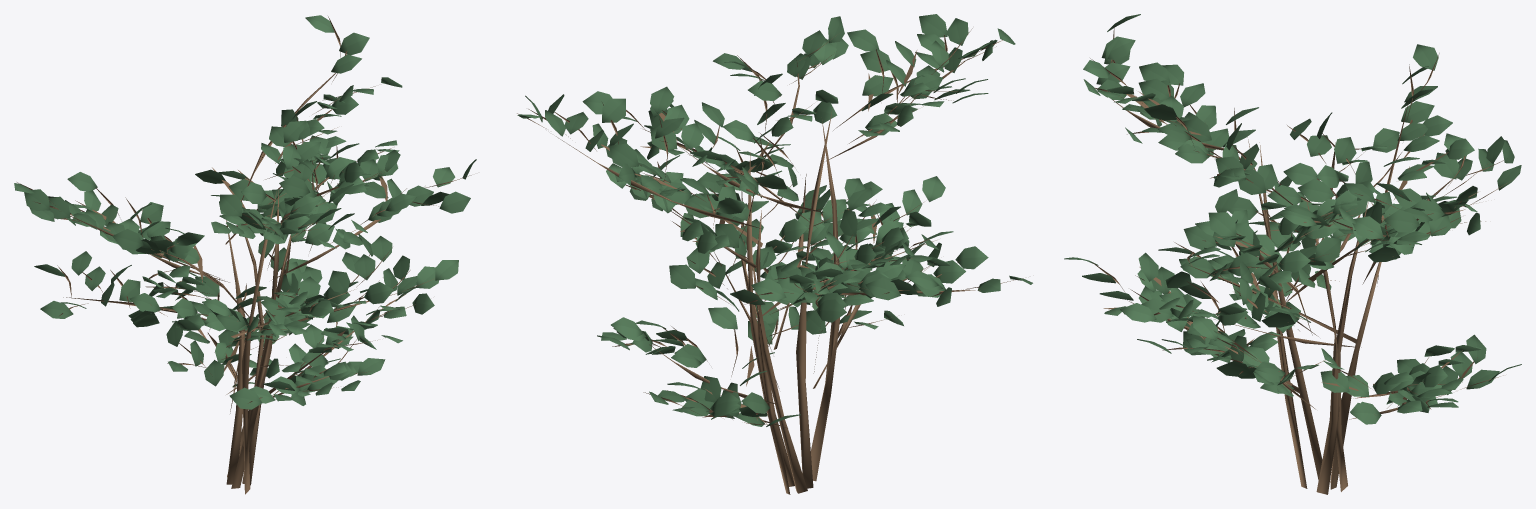
File: Myrte_0_LOD2.fbx
3 views of the same model, side by side, from view 1: azimuth 30°, elevation 25°; view 2: azimuth 150°, elevation 25°; view 3: azimuth 270°, elevation 25° (orthographic). The views are drawn at different scales.
Parts seen in each view (by area): view 1: Myrte_0_LOD2; view 2: Myrte_0_LOD2; view 3: Myrte_0_LOD2.
Part boxes in pixels (<box>): Myrte_0_LOD2: <box>14,15,476,494</box>; Myrte_0_LOD2: <box>517,14,1032,494</box>; Myrte_0_LOD2: <box>1064,14,1521,494</box>.
Bounding box in the file's own units: 227 × 194 × 190.
